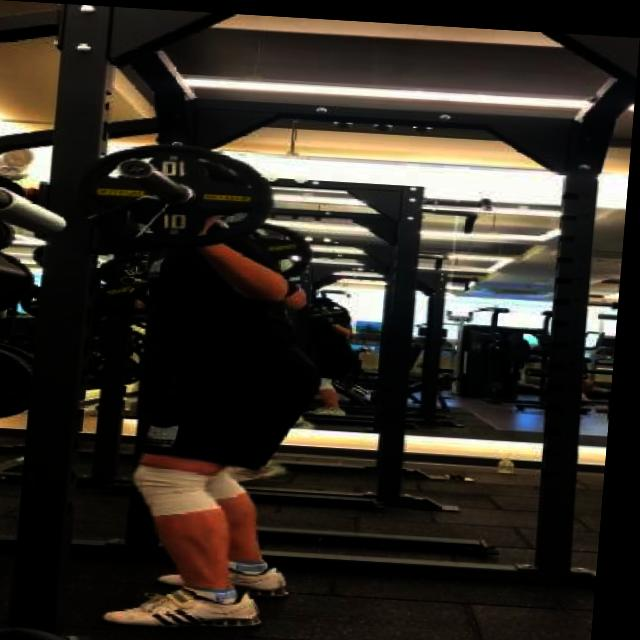barbell: (84, 129, 284, 257)
